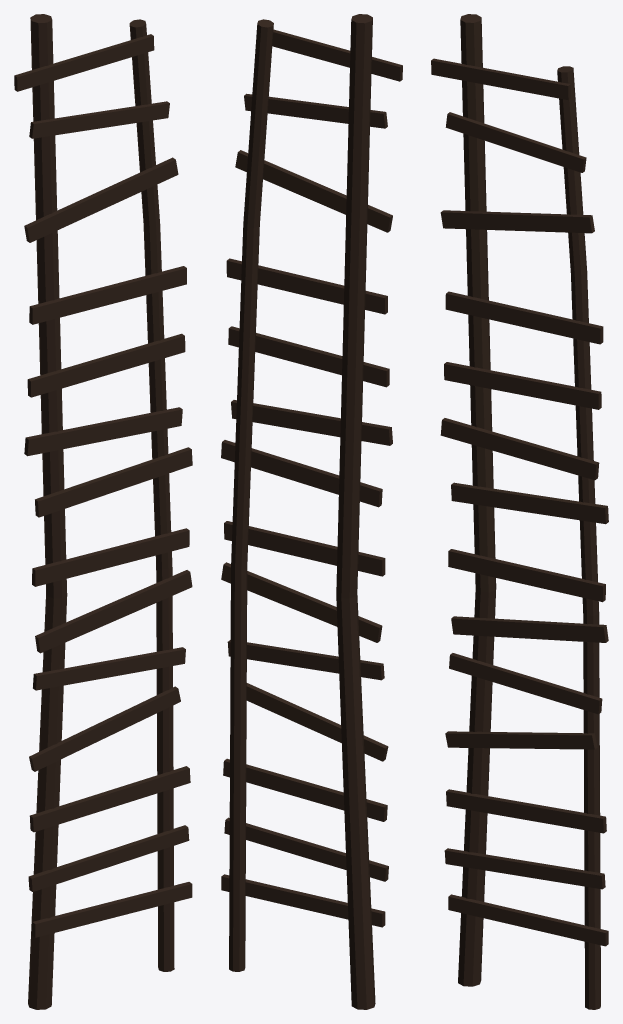
File: island_ladder.fbx
3 views of the same model, side by side, from view 1: azimuth 30°, elevation 25°; view 2: azimuth 150°, elevation 25°; view 3: azimuth 330°, elevation 25° (orthographic). The views are drawn at different scales.
Parts seen in each view (by area): view 1: Cylinder.008; view 2: Cylinder.008; view 3: Cylinder.008.
Boxes of the visible parts, <box> form: Cylinder.008: <box>14,14,192,1009</box>; Cylinder.008: <box>221,14,402,1009</box>; Cylinder.008: <box>431,14,608,1009</box>.
Bounding box in the file's own units: 0.9039 × 4.8 × 0.1306.
